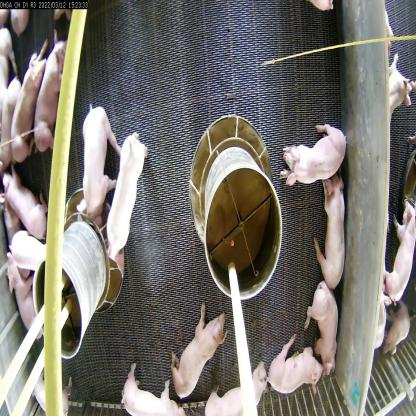Pig: (100, 125, 160, 267), (275, 122, 345, 193), (164, 301, 222, 386), (105, 356, 184, 416), (79, 105, 115, 226), (312, 171, 345, 296), (264, 338, 321, 401), (34, 50, 70, 147), (2, 167, 48, 239), (311, 280, 351, 362), (197, 366, 262, 416), (3, 252, 39, 330), (12, 56, 40, 155)
